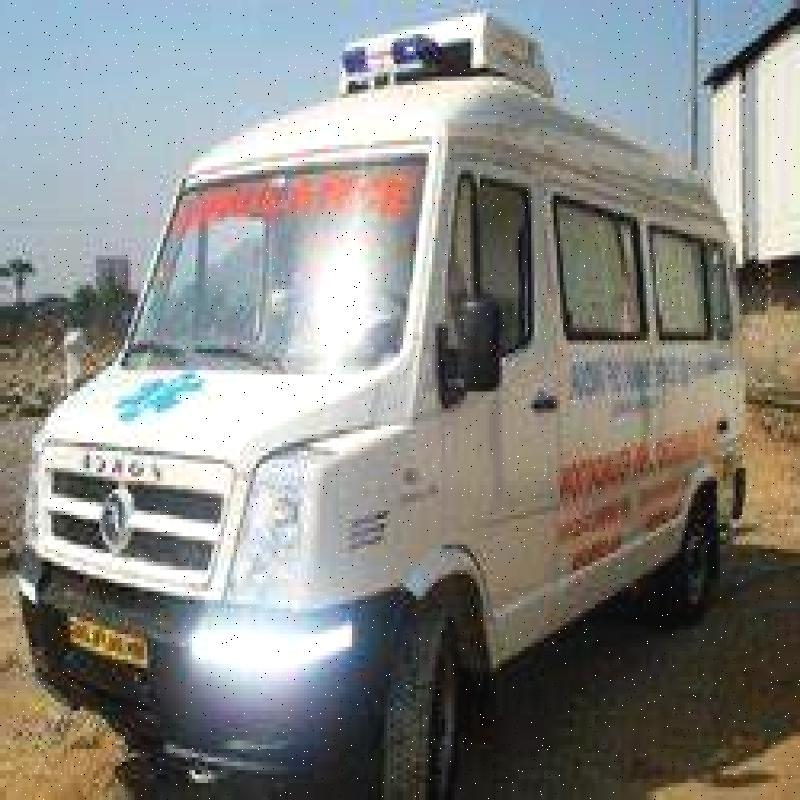AmbulanceSiren: (347, 17, 472, 94)
